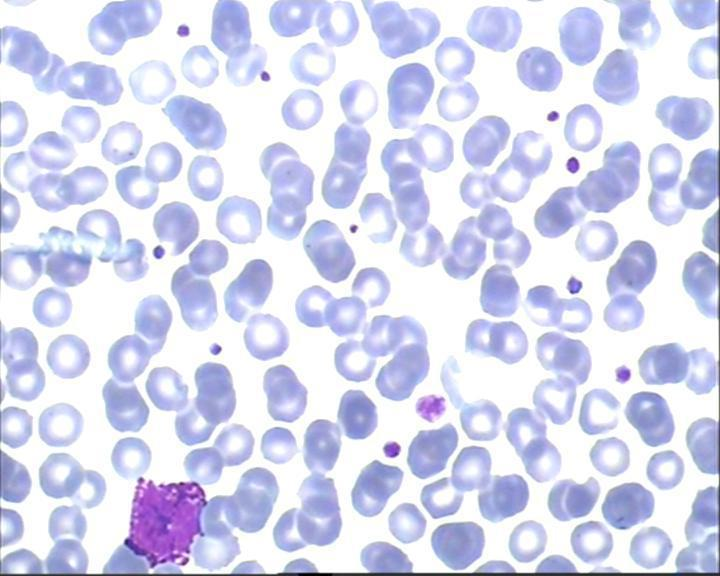baso: (115, 469, 214, 576)
